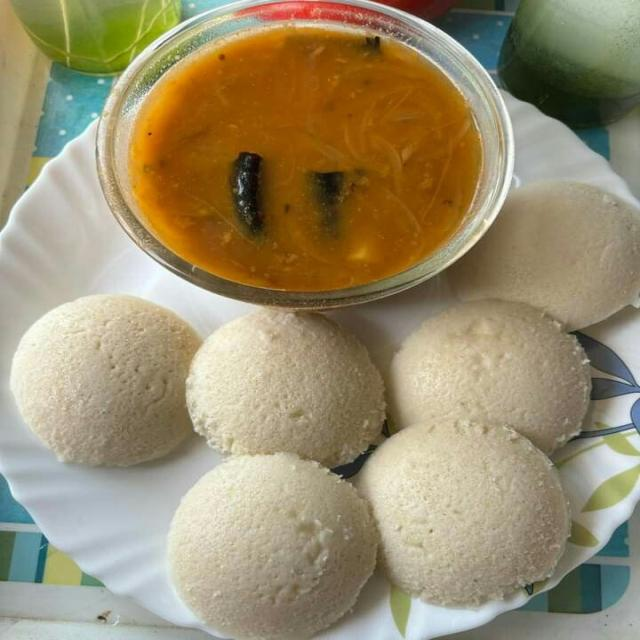idly: (357, 427, 593, 616), (381, 308, 621, 463), (185, 469, 379, 640), (8, 308, 204, 461), (191, 312, 387, 460), (493, 179, 640, 337)
sambar: (120, 21, 488, 294)
